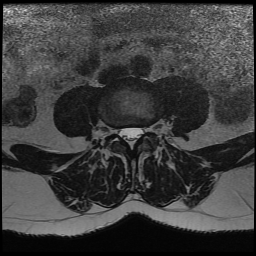CCS_normal: (127, 118, 135, 155)
LFS_stenosis: (144, 116, 152, 141)
LLS_normal: (135, 117, 144, 144)
RFS_stenosis: (111, 117, 119, 142)
RLS_normal: (119, 118, 127, 147)
